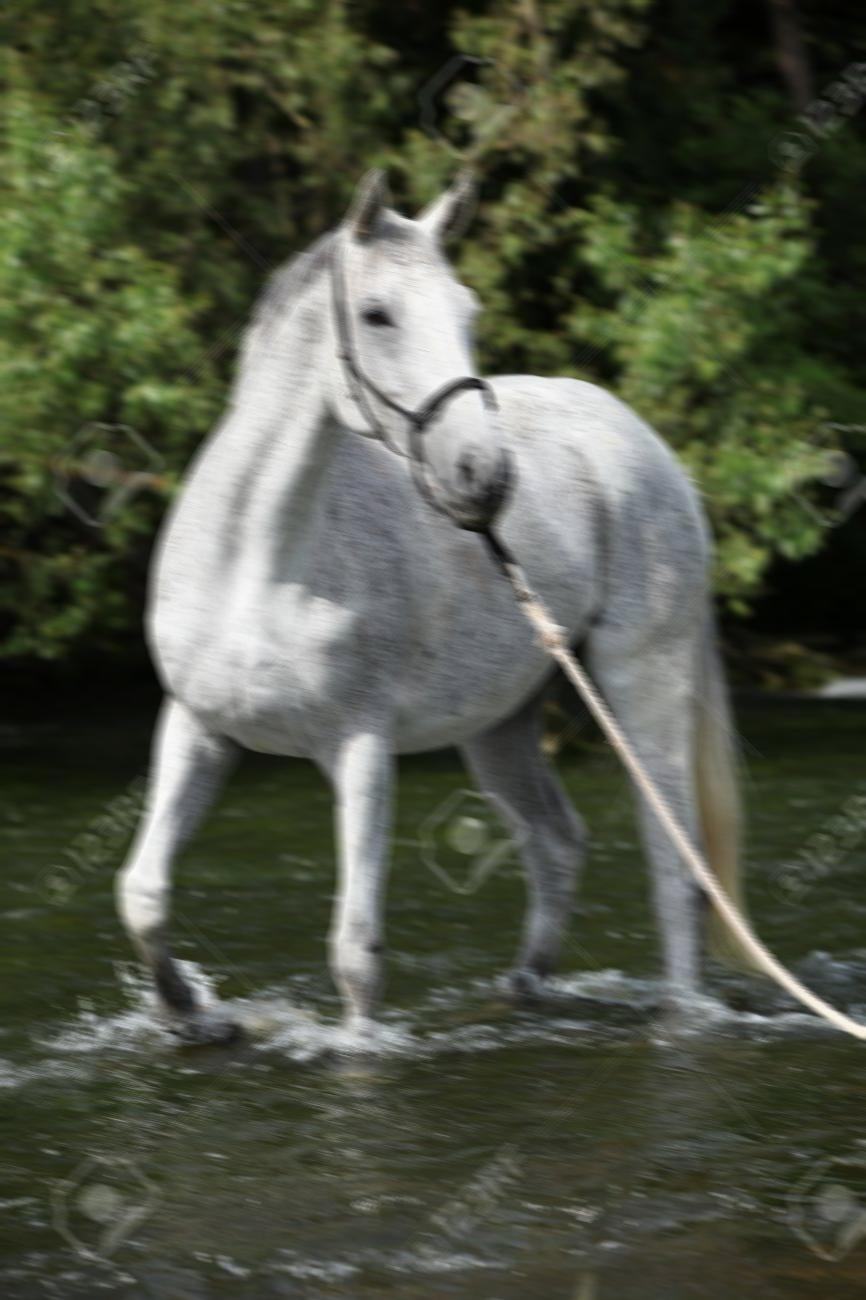horse: (93, 148, 768, 1071)
